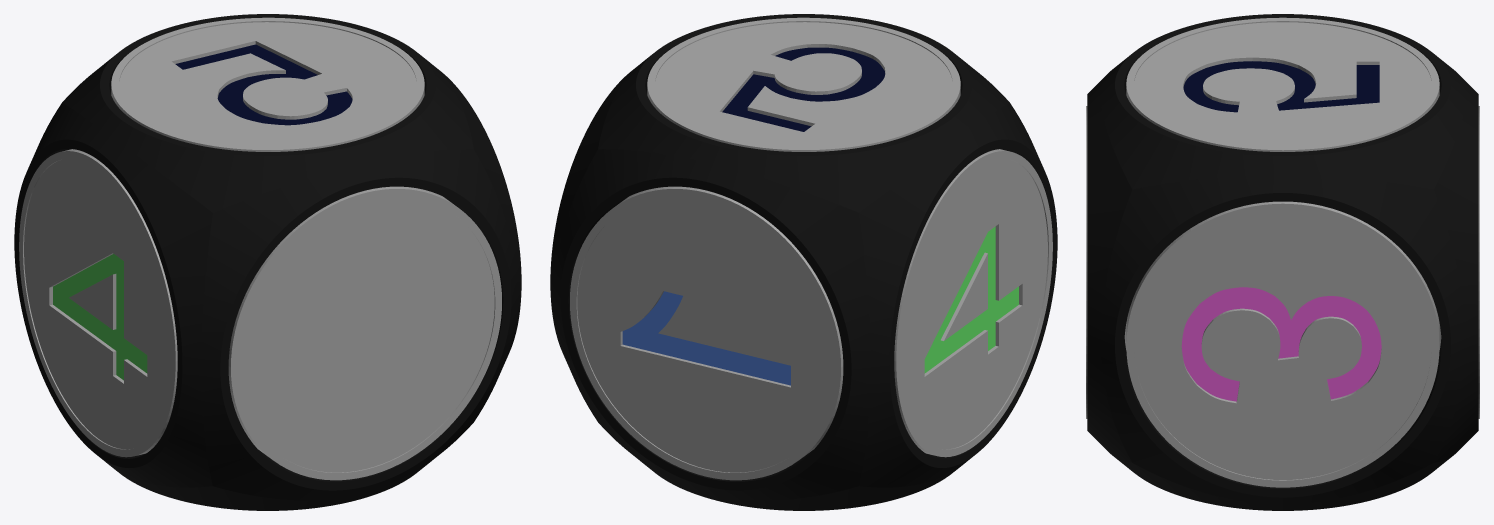
Rendered from cubeWM.glb.
The picture shows the model from 3 angles, left to right: view 1: azimuth 30°, elevation 25°; view 2: azimuth 150°, elevation 25°; view 3: azimuth 270°, elevation 25°; orthographic projection.
Visible parts, largest first — view 1: Telo, nullPad, 4pad, 5pad, 4flat, 5flat; view 2: Telo, 1pad, 4pad, 5pad, 1flat, 5flat, 4flat; view 3: Telo, 3pad, 5pad, 3flat, 5flat, 1pad, nullPad.
Boxes of the visible parts, box(x1,y1,x2,y2) form: Telo: box(14, 14, 521, 510); nullPad: box(228, 186, 501, 480); 4pad: box(19, 149, 177, 457); 5pad: box(111, 17, 424, 151); 4flat: box(53, 253, 147, 380); 5flat: box(175, 44, 352, 125); Telo: box(550, 14, 1057, 510); 1pad: box(570, 186, 843, 480); 4pad: box(894, 149, 1052, 457); 5pad: box(647, 17, 960, 151); 1flat: box(622, 291, 790, 385); 5flat: box(722, 47, 885, 131); 4flat: box(924, 226, 1018, 373); Telo: box(1087, 14, 1478, 510); 3pad: box(1126, 201, 1439, 487); 5pad: box(1126, 17, 1439, 151); 3flat: box(1181, 287, 1381, 401); 5flat: box(1183, 61, 1379, 112); 1pad: box(1439, 106, 1479, 418); nullPad: box(1086, 106, 1126, 418).
Bounding box in the file's own units: 1.44 × 1.44 × 1.44.
